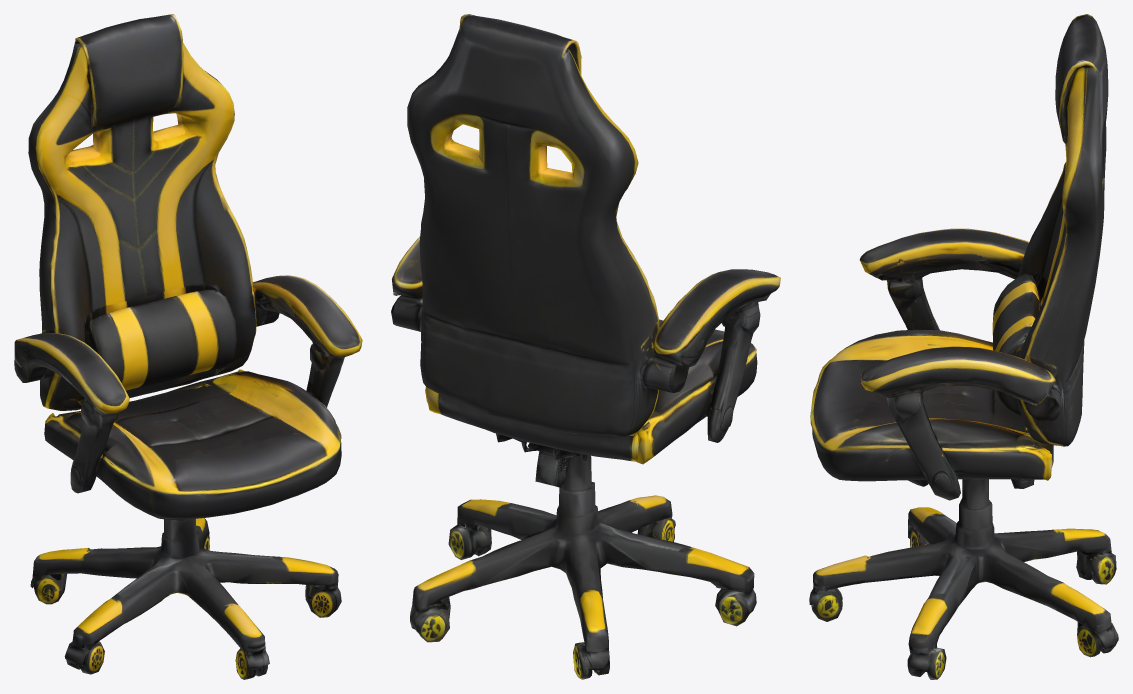
3 renders of one model, left to right at view 1: azimuth 30°, elevation 25°; view 2: azimuth 150°, elevation 25°; view 3: azimuth 270°, elevation 25°, orthographic. The views are drawn at different scales.
Visible parts, largest first — view 1: Mesh_0; view 2: Mesh_0; view 3: Mesh_0.
Boxes of the visible parts, bbox=[...] form: Mesh_0: bbox=[14, 14, 362, 679]; Mesh_0: bbox=[391, 14, 780, 679]; Mesh_0: bbox=[809, 14, 1118, 679].
Size of the model in its own units: 0.5557 by 1.1 by 0.5312.
1 material, 1 textured.
